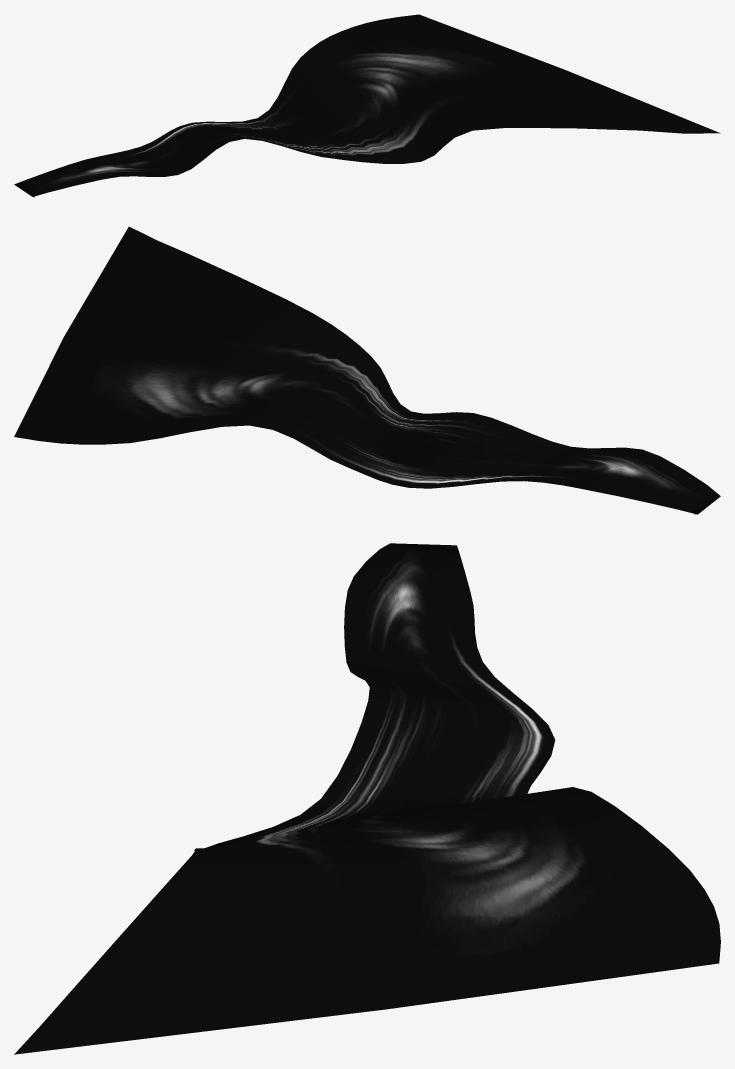
Rendered from 0383_meiluoyeta_tail01.glb.
3 views of the same model, one above another, from view 1: azimuth 30°, elevation 25°; view 2: azimuth 150°, elevation 25°; view 3: azimuth 270°, elevation 25° (orthographic). The views are drawn at different scales.
Bounding box in the file's own units: 2.2 × 0.1199 × 1.29.
Materials: 1 (1 with a texture image).
